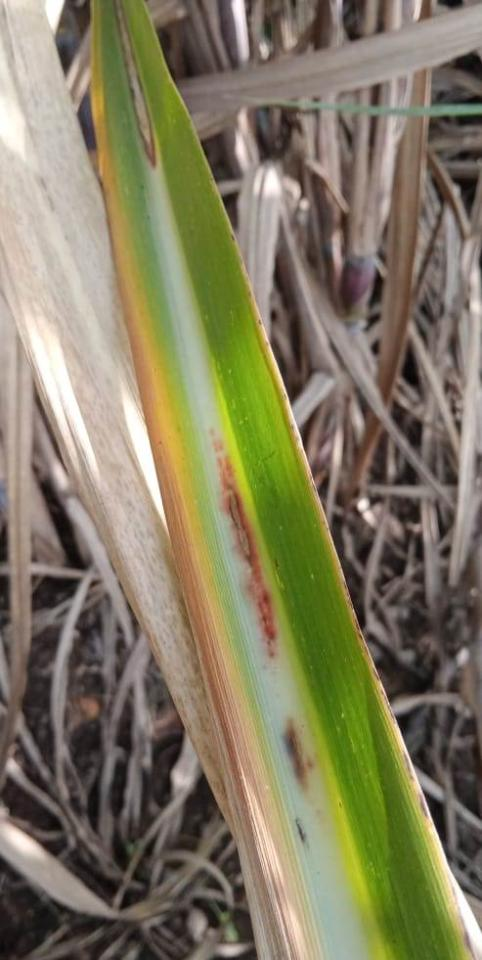RedRot: (208, 424, 280, 661), (113, 0, 157, 170), (281, 717, 317, 795)
Yellow: (89, 4, 297, 905)
